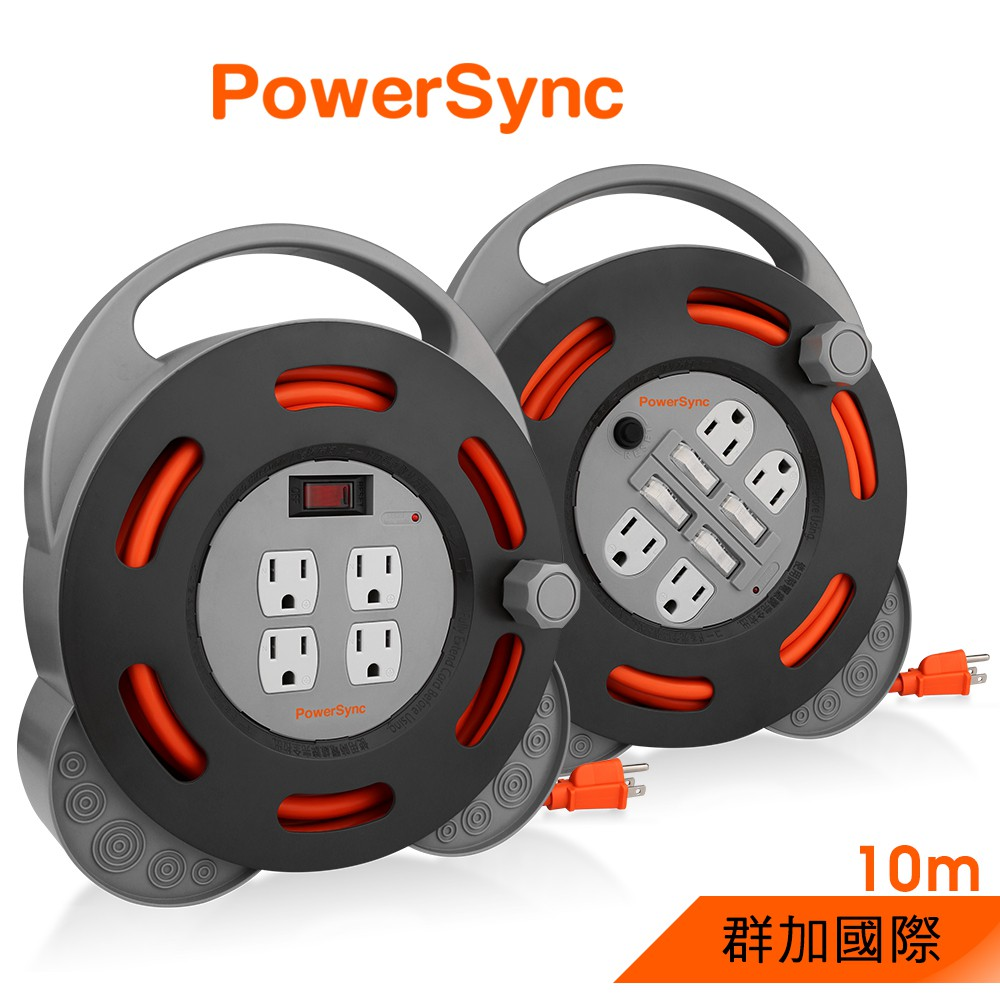socket: (14, 233, 650, 901), (447, 163, 991, 774)
